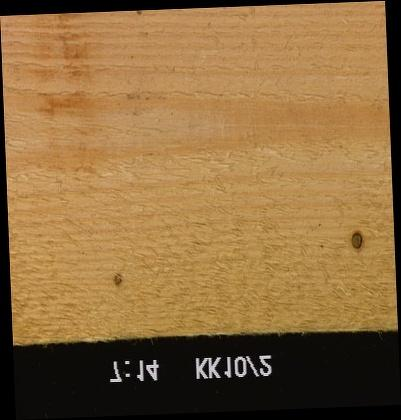dry_knot: (349, 230, 362, 250), (112, 272, 122, 287)
